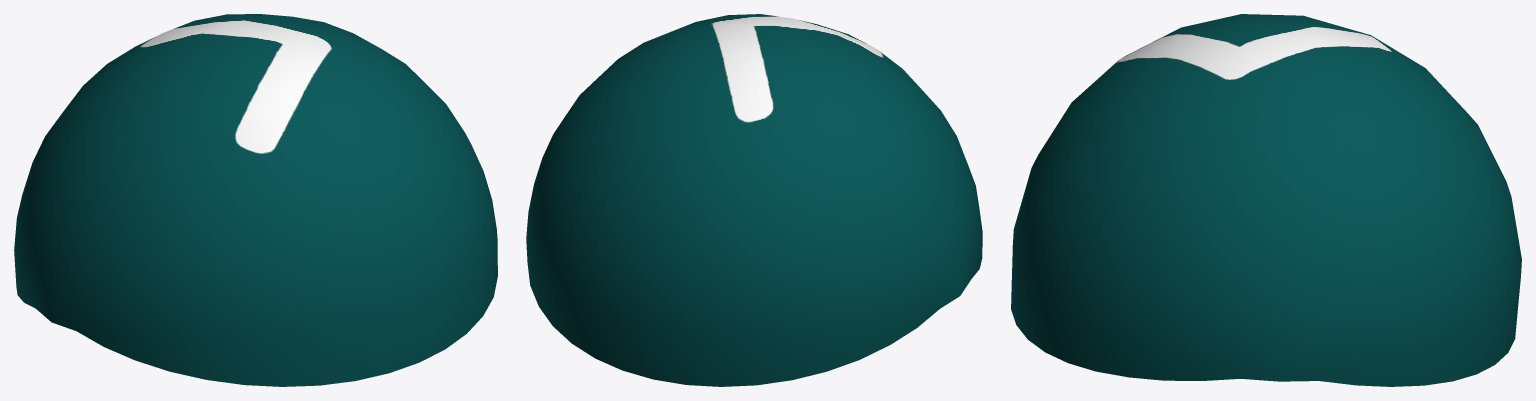
The model's file is Rings_Button_Right.fbx.
3 renders of one model, left to right at view 1: azimuth 30°, elevation 25°; view 2: azimuth 150°, elevation 25°; view 3: azimuth 270°, elevation 25°, orthographic. The views are drawn at different scales.
Visible parts, largest first — view 1: pSphere46; view 2: pSphere46; view 3: pSphere46.
Boxes of the visible parts, x1,y1,x2,y2 form: pSphere46: (14,14,497,386); pSphere46: (526,14,982,386); pSphere46: (1011,14,1521,386).
Size of the model in its own units: 4.48 by 2.81 by 4.47.
1 material, 1 textured.
